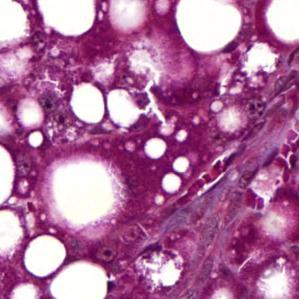steatosis: (22, 233, 67, 280), (67, 83, 106, 120)
